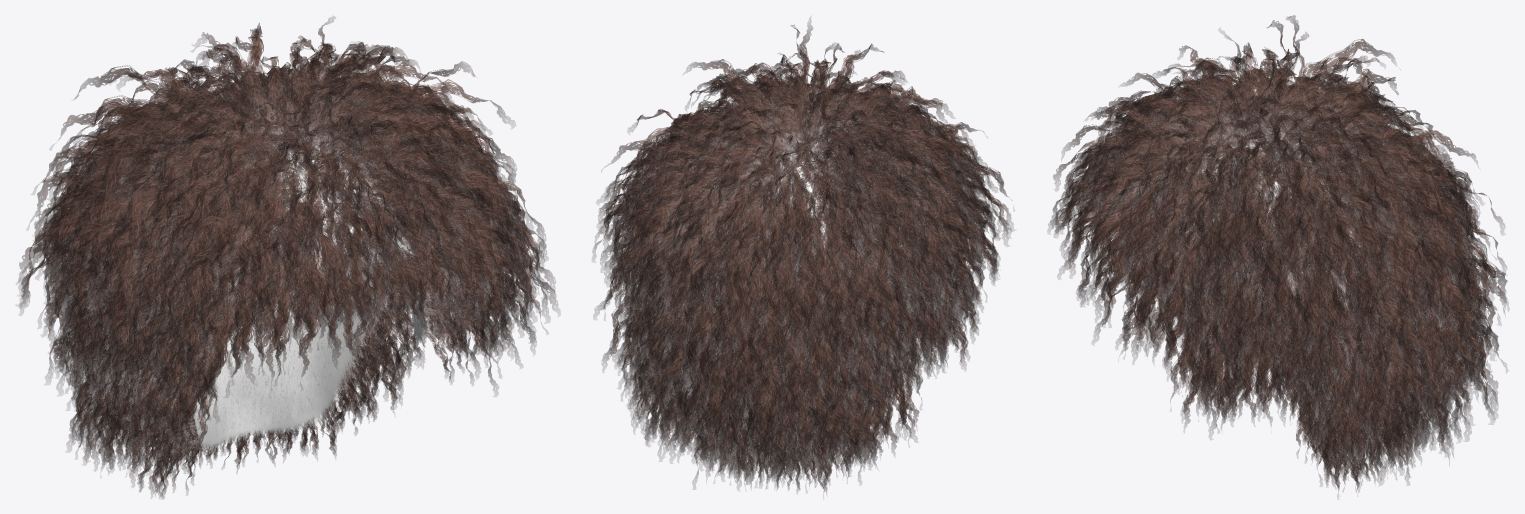
File: hair-seco.glb
The picture shows the model from 3 angles, left to right: view 1: azimuth 30°, elevation 25°; view 2: azimuth 150°, elevation 25°; view 3: azimuth 270°, elevation 25°; orthographic projection. The views are drawn at different scales.
Parts seen in each view (by area): view 1: Object_3, Object_2, Object_4, Object_5; view 2: Object_2, Object_3, Object_4, Object_5; view 3: Object_2, Object_4, Object_3, Object_5.
Part boxes in pixels (x1=…): Object_3: x1=16, y1=35, x2=425, y2=498; Object_2: x1=31, y1=16, x2=531, y2=497; Object_4: x1=126, y1=23, x2=560, y2=496; Object_5: x1=193, y1=140, x2=426, y2=452; Object_2: x1=593, y1=17, x2=985, y2=496; Object_3: x1=676, y1=50, x2=1014, y2=493; Object_4: x1=592, y1=43, x2=911, y2=492; Object_5: x1=705, y1=139, x2=835, y2=257; Object_2: x1=1056, y1=15, x2=1508, y2=499; Object_4: x1=1047, y1=64, x2=1478, y2=489; Object_3: x1=1053, y1=20, x2=1507, y2=445; Object_5: x1=1146, y1=142, x2=1368, y2=410.
Size of the model in its own units: 32.37 by 35.19 by 32.62.
Materials: 2 (2 with a texture image).
